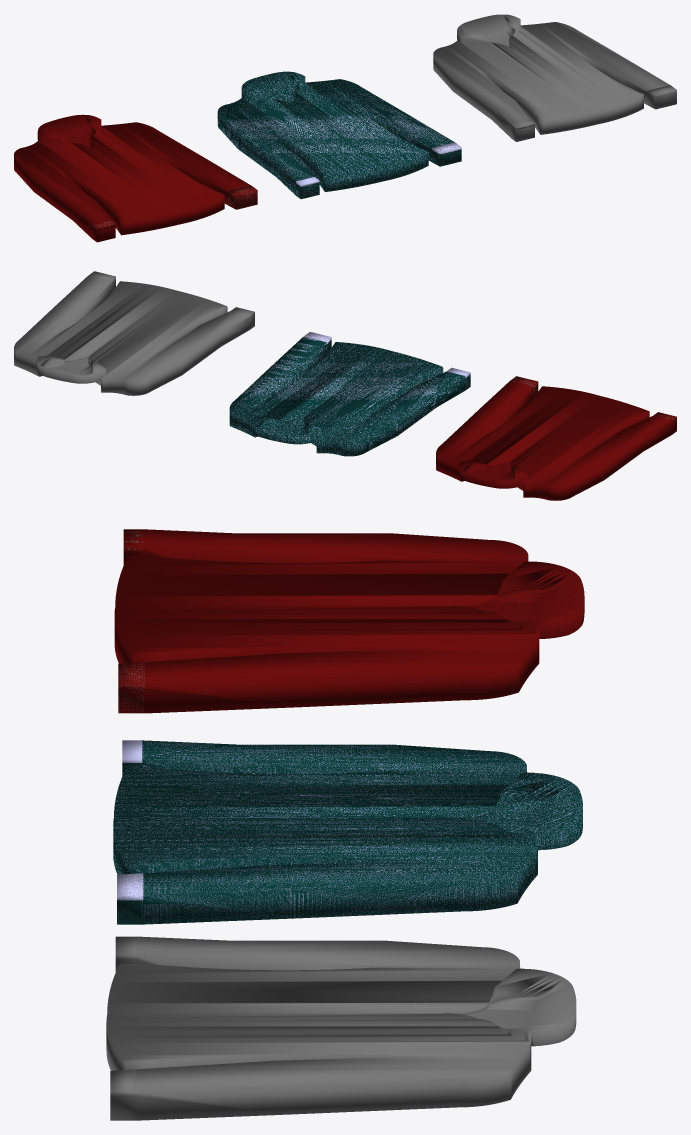
3 renders of one model, top to bottom at view 1: azimuth 30°, elevation 25°; view 2: azimuth 150°, elevation 25°; view 3: azimuth 270°, elevation 25°, orthographic. The views are drawn at different scales.
Parts seen in each view (by area): view 1: group_1, group_0 (×2), group_2 (×2); view 2: group_1, group_2, group_0; view 3: group_1, group_0 (×2), group_2.
Boxes of the visible parts, <box> form: group_1: <box>433,14,676,141</box>; group_0 (×2): <box>14,114,257,242</box>; group_2 (×2): <box>217,71,461,199</box>; group_1: <box>14,271,254,395</box>; group_2: <box>229,337,470,456</box>; group_0: <box>436,381,676,500</box>; group_1: <box>106,936,576,1120</box>; group_0 (×2): <box>114,529,584,713</box>; group_2: <box>113,740,582,924</box>.
Bounding box in the file's own units: 436 × 157 × 19.37.
